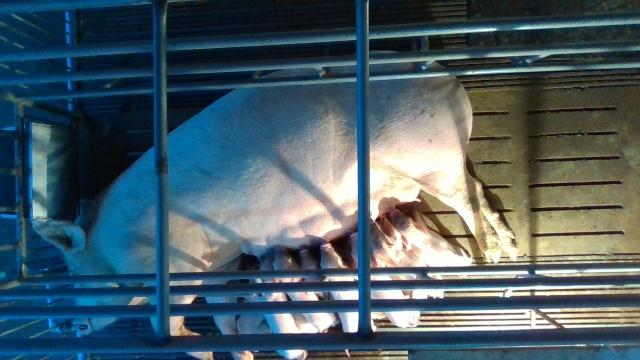piglet: (352, 232, 420, 328), (392, 205, 473, 277), (250, 257, 307, 359), (270, 244, 335, 329), (372, 221, 444, 297), (318, 241, 361, 332)
sow-sleep-lactate: (32, 63, 515, 360)
